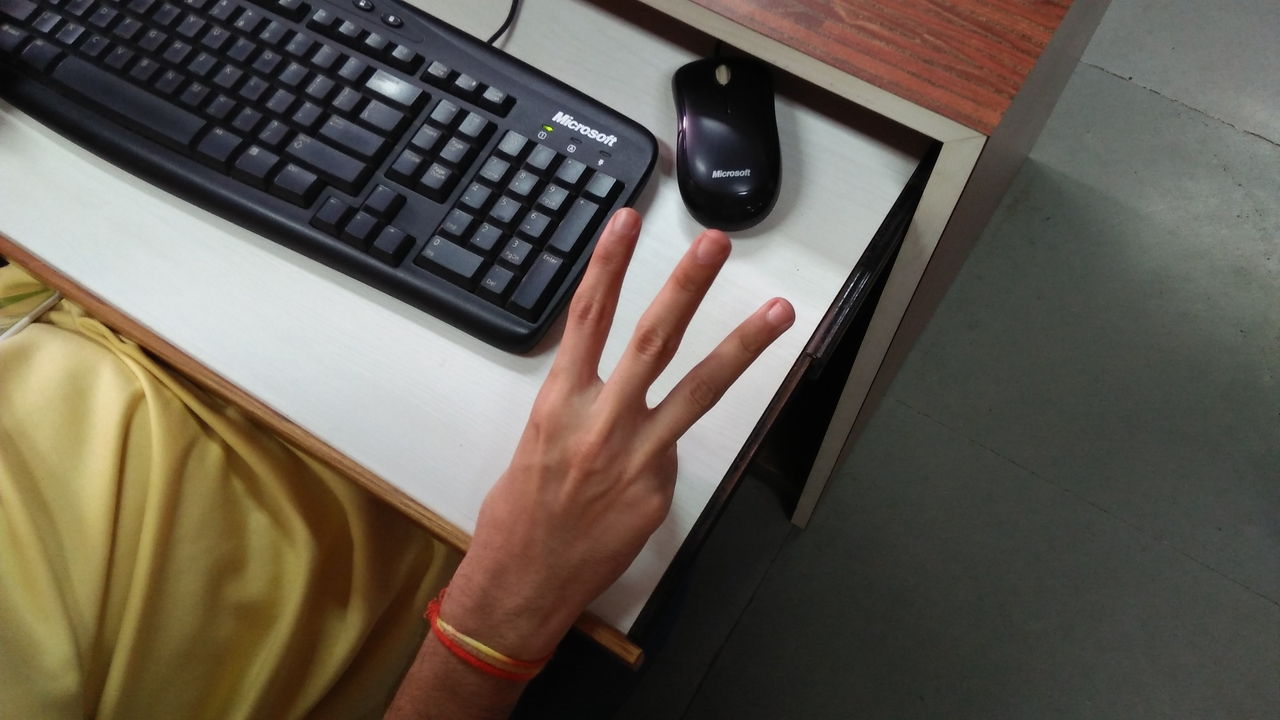fingertip: (736, 288, 798, 342), (676, 218, 734, 274), (592, 200, 646, 250)
